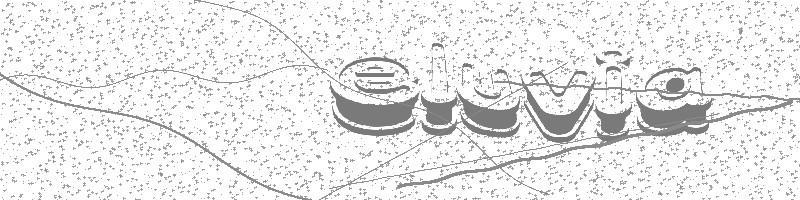a: (633, 62, 718, 155)
e: (324, 46, 421, 140)
i: (594, 50, 638, 146)
l: (417, 37, 463, 150)
u: (456, 58, 523, 139)
v: (518, 66, 598, 146)
